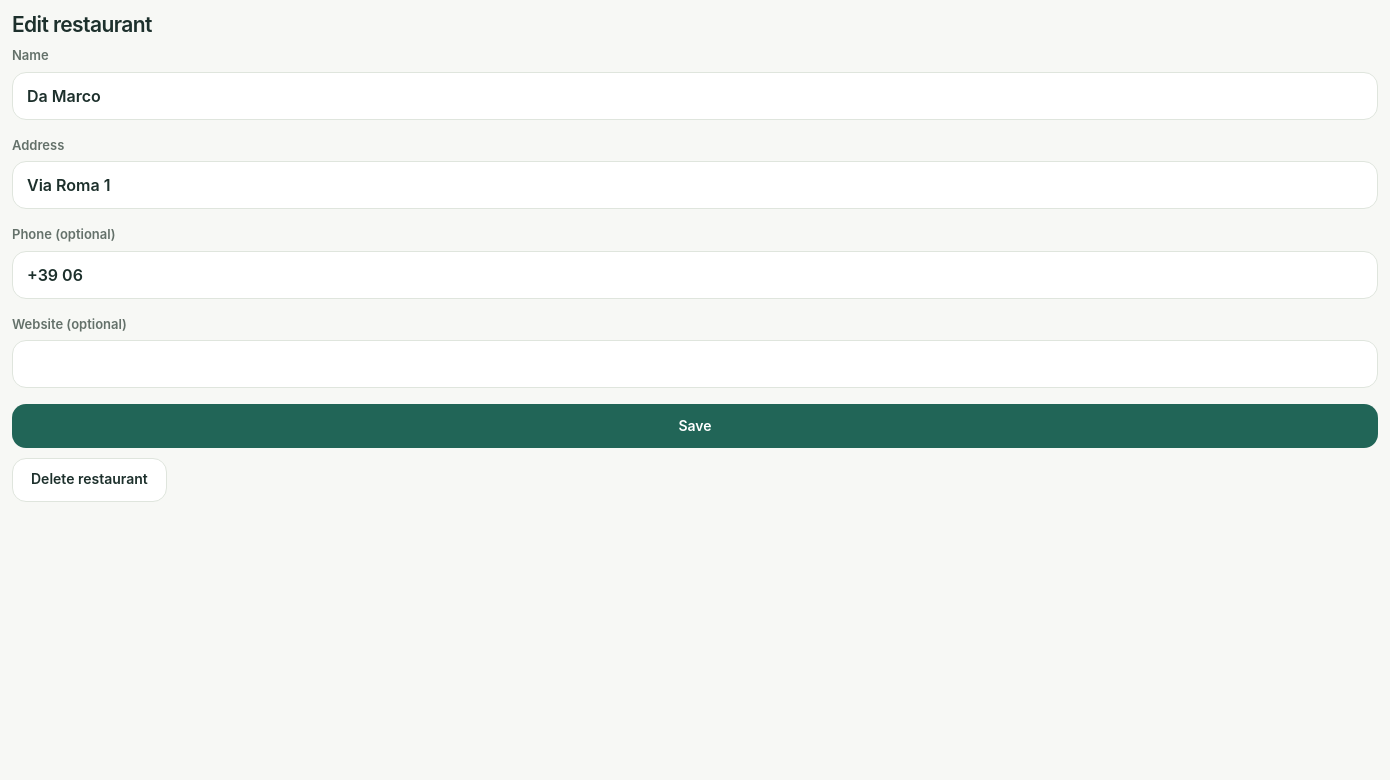
RestaurantFormPage — edit › seeds the draft once from the first snapshot and keeps dirty fields when a newer snapshot arrives
Replace the text in the field with test id "field-name" with "My rename": (695,96) [12,72,1378,120]
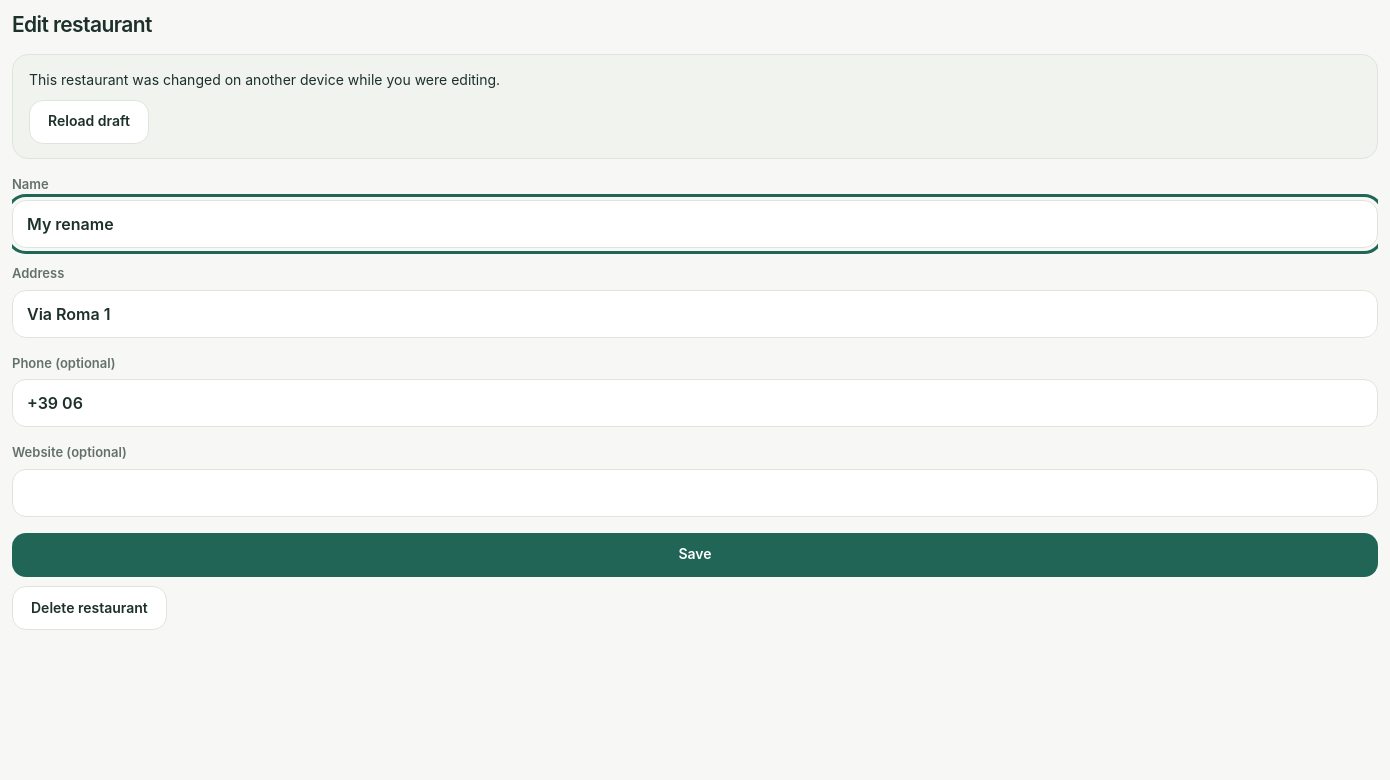
Expected: the message with test id "changed-elsewhere" is shown, [12,54,1378,159]
Click the button with test id "reload-draft": (89,122) [29,100,149,144]
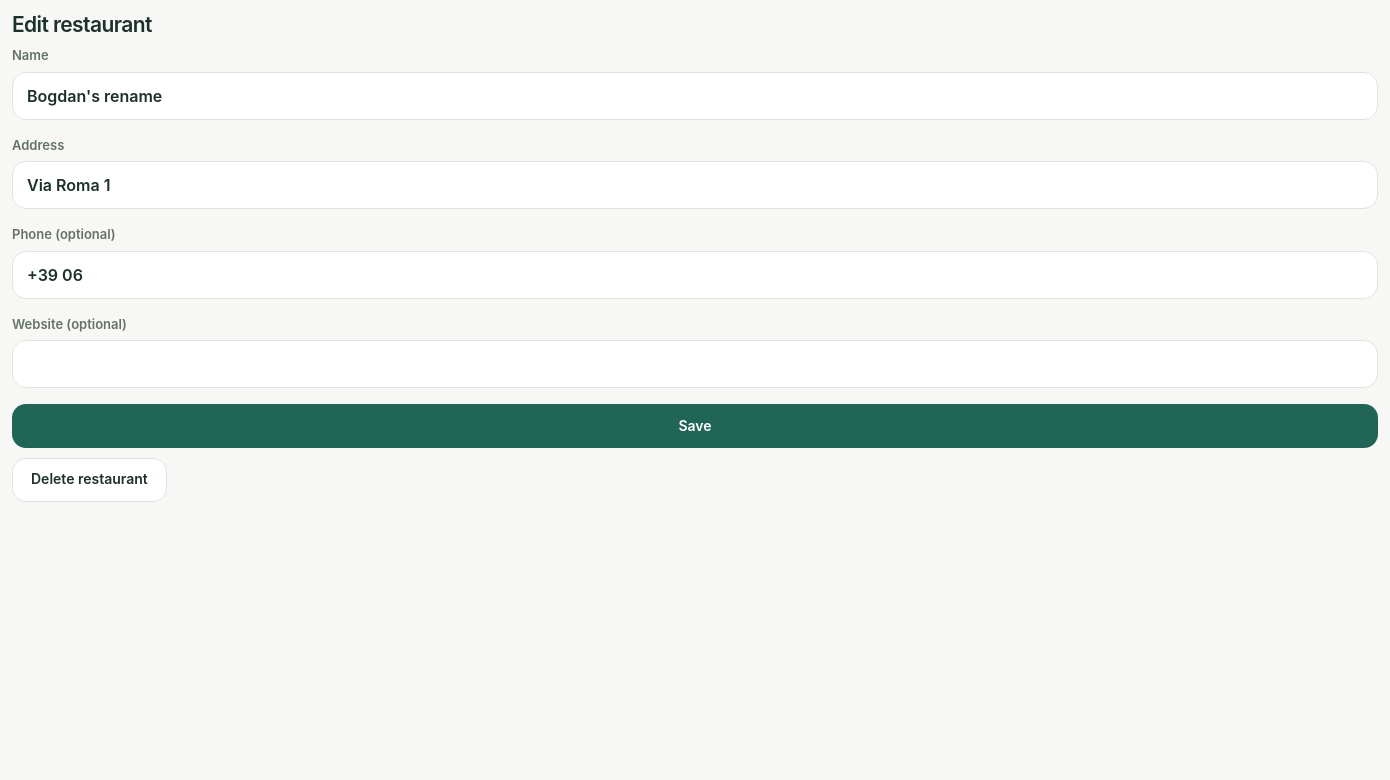
Expected: the field with test id "field-name" holds "Bogdan's rename", [12,72,1378,120]
Expected: the message with test id "changed-elsewhere" is gone
